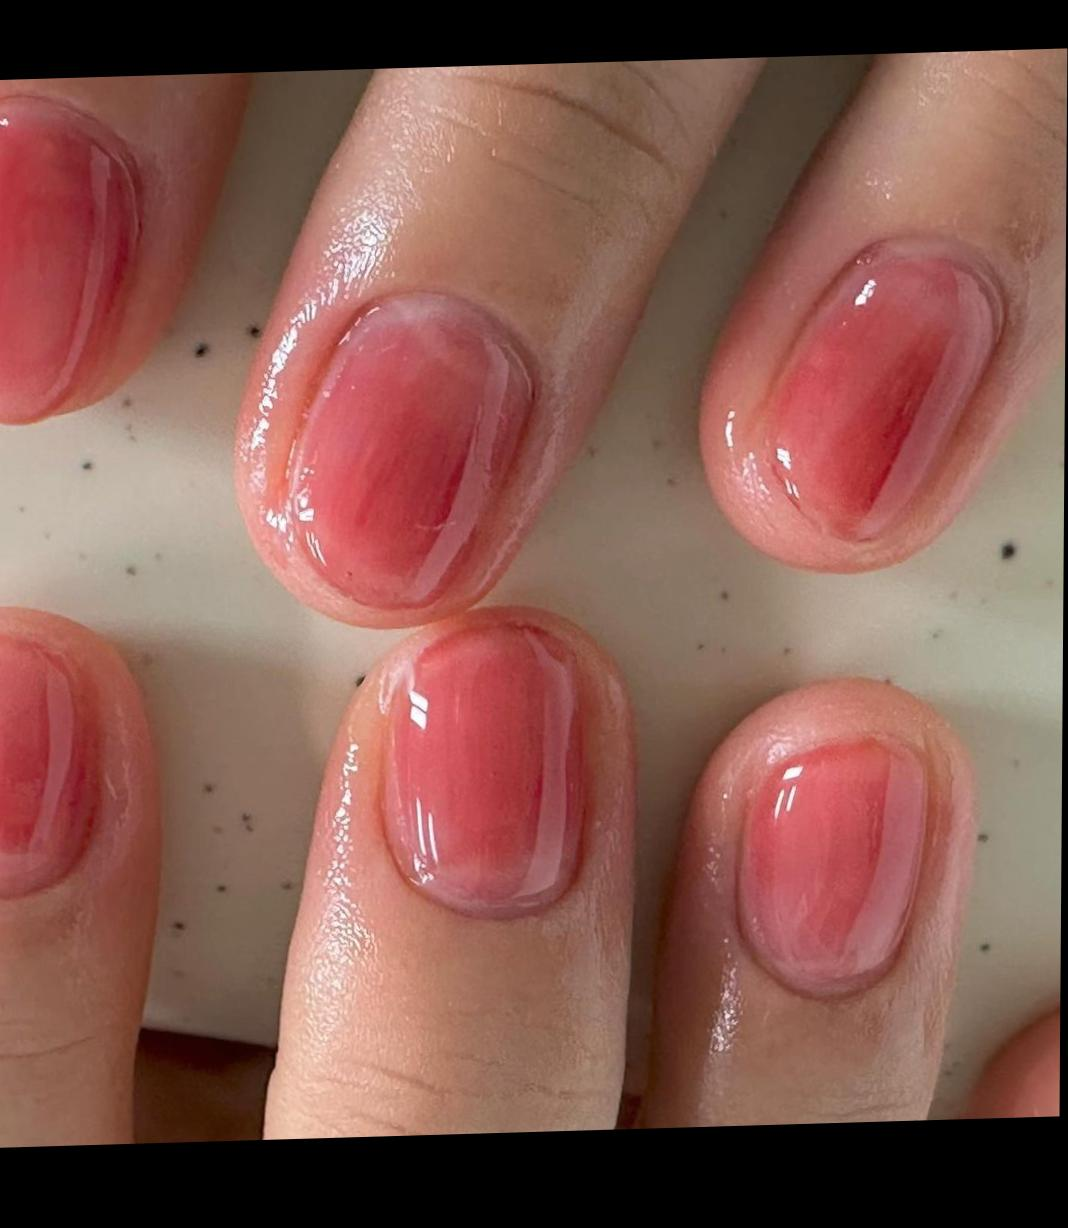nail: (269, 286, 536, 619), (744, 232, 1005, 549), (372, 614, 590, 927), (729, 732, 930, 1002), (0, 93, 141, 424), (0, 634, 97, 898)
